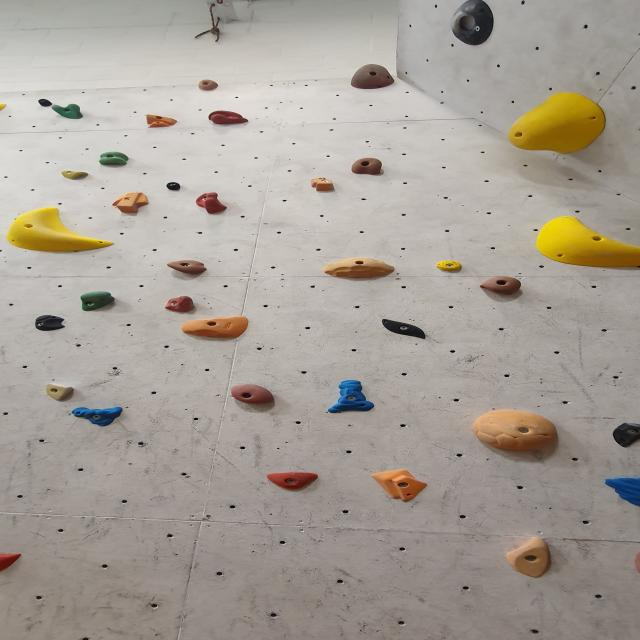Crimp: (70, 408, 124, 428), (605, 479, 640, 509), (265, 472, 322, 490), (208, 110, 250, 126), (46, 384, 76, 402), (144, 115, 180, 128), (436, 261, 466, 275)
Jug: (350, 64, 397, 90), (229, 384, 277, 406), (480, 277, 526, 297), (79, 290, 116, 312), (195, 195, 229, 216), (350, 159, 386, 178), (166, 261, 209, 276), (163, 296, 196, 314), (51, 104, 86, 120), (99, 151, 131, 168), (198, 79, 221, 91)
Pinch: (504, 537, 556, 578), (327, 379, 377, 413), (110, 190, 150, 213), (309, 178, 339, 194), (166, 182, 183, 192), (37, 98, 53, 107)
Pocket: (451, 1, 497, 48)
Sloper: (508, 92, 610, 154), (1, 206, 115, 254), (534, 215, 639, 266), (473, 410, 562, 452), (371, 471, 430, 505), (320, 257, 397, 281), (179, 316, 250, 340), (613, 422, 640, 447), (0, 554, 24, 579), (33, 315, 66, 332), (60, 170, 90, 182), (0, 100, 9, 119)
